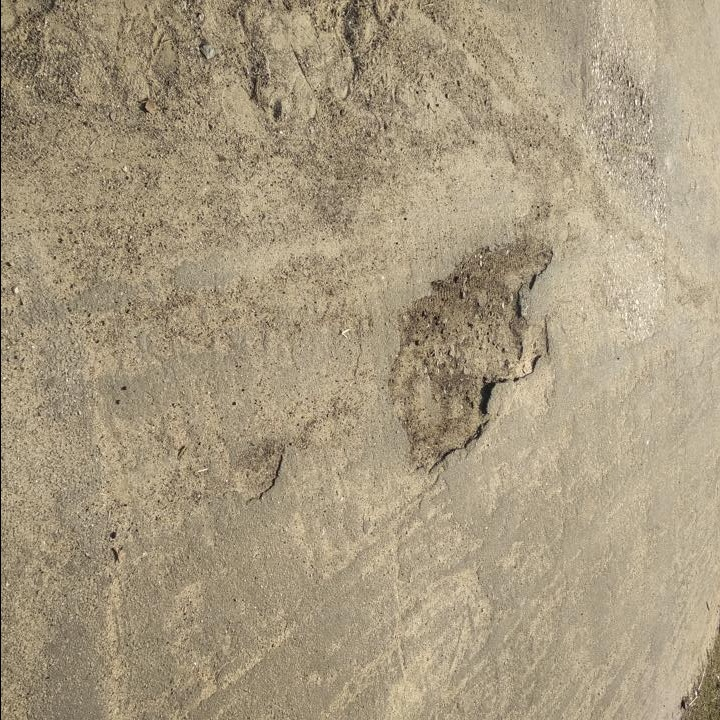pothole: (386, 234, 558, 480), (229, 440, 289, 506)
